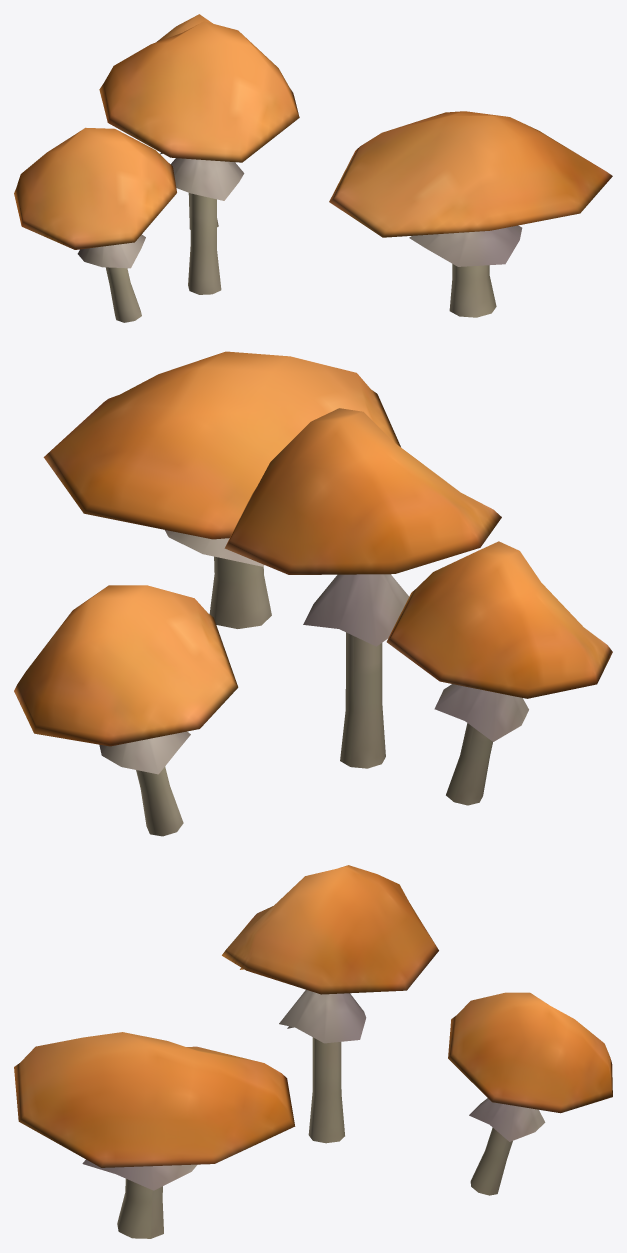
Rendered from mushroom-2.glb.
3 renders of one model, top to bottom at view 1: azimuth 30°, elevation 25°; view 2: azimuth 150°, elevation 25°; view 3: azimuth 270°, elevation 25°, orthographic. The views are drawn at different scales.
Visible parts, largest first — view 1: Mushroom_RedCap; view 2: Mushroom_RedCap; view 3: Mushroom_RedCap.
Part boxes in pixels (box(x1,y1,x2,y2)): Mushroom_RedCap: box(14, 14, 612, 322); Mushroom_RedCap: box(14, 351, 612, 836); Mushroom_RedCap: box(14, 865, 612, 1238).
Size of the model in its own units: 0.3656 by 0.2 by 0.3739.
1 material, 1 textured.
